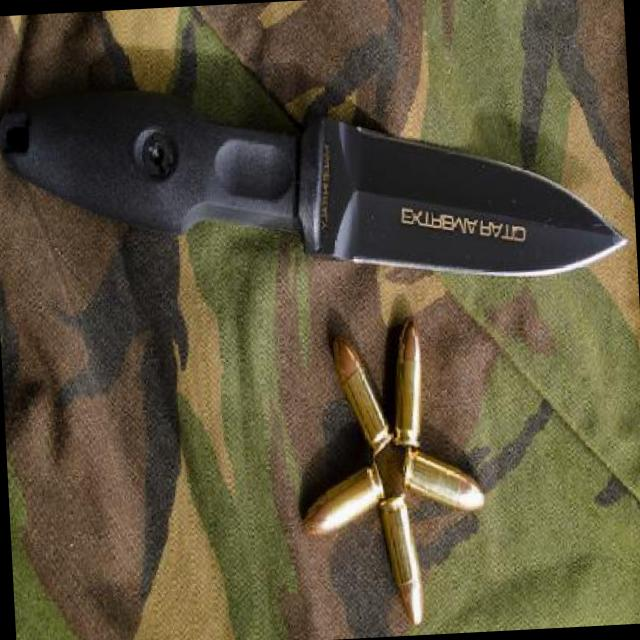knife: (292, 75, 637, 304)
